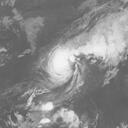cyclone: (45, 44, 85, 86)
